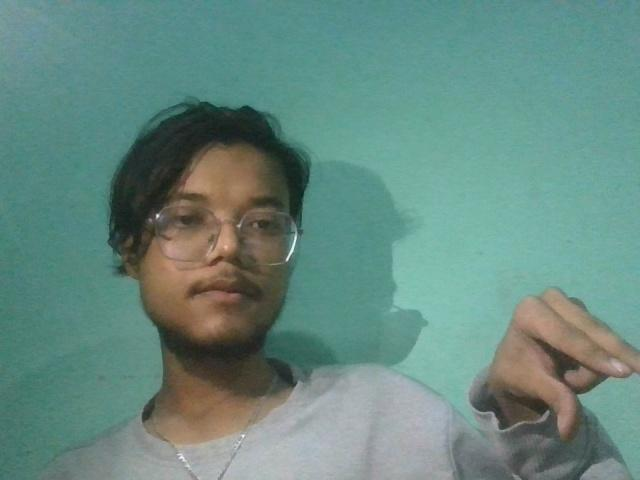No: (458, 258, 639, 445)
